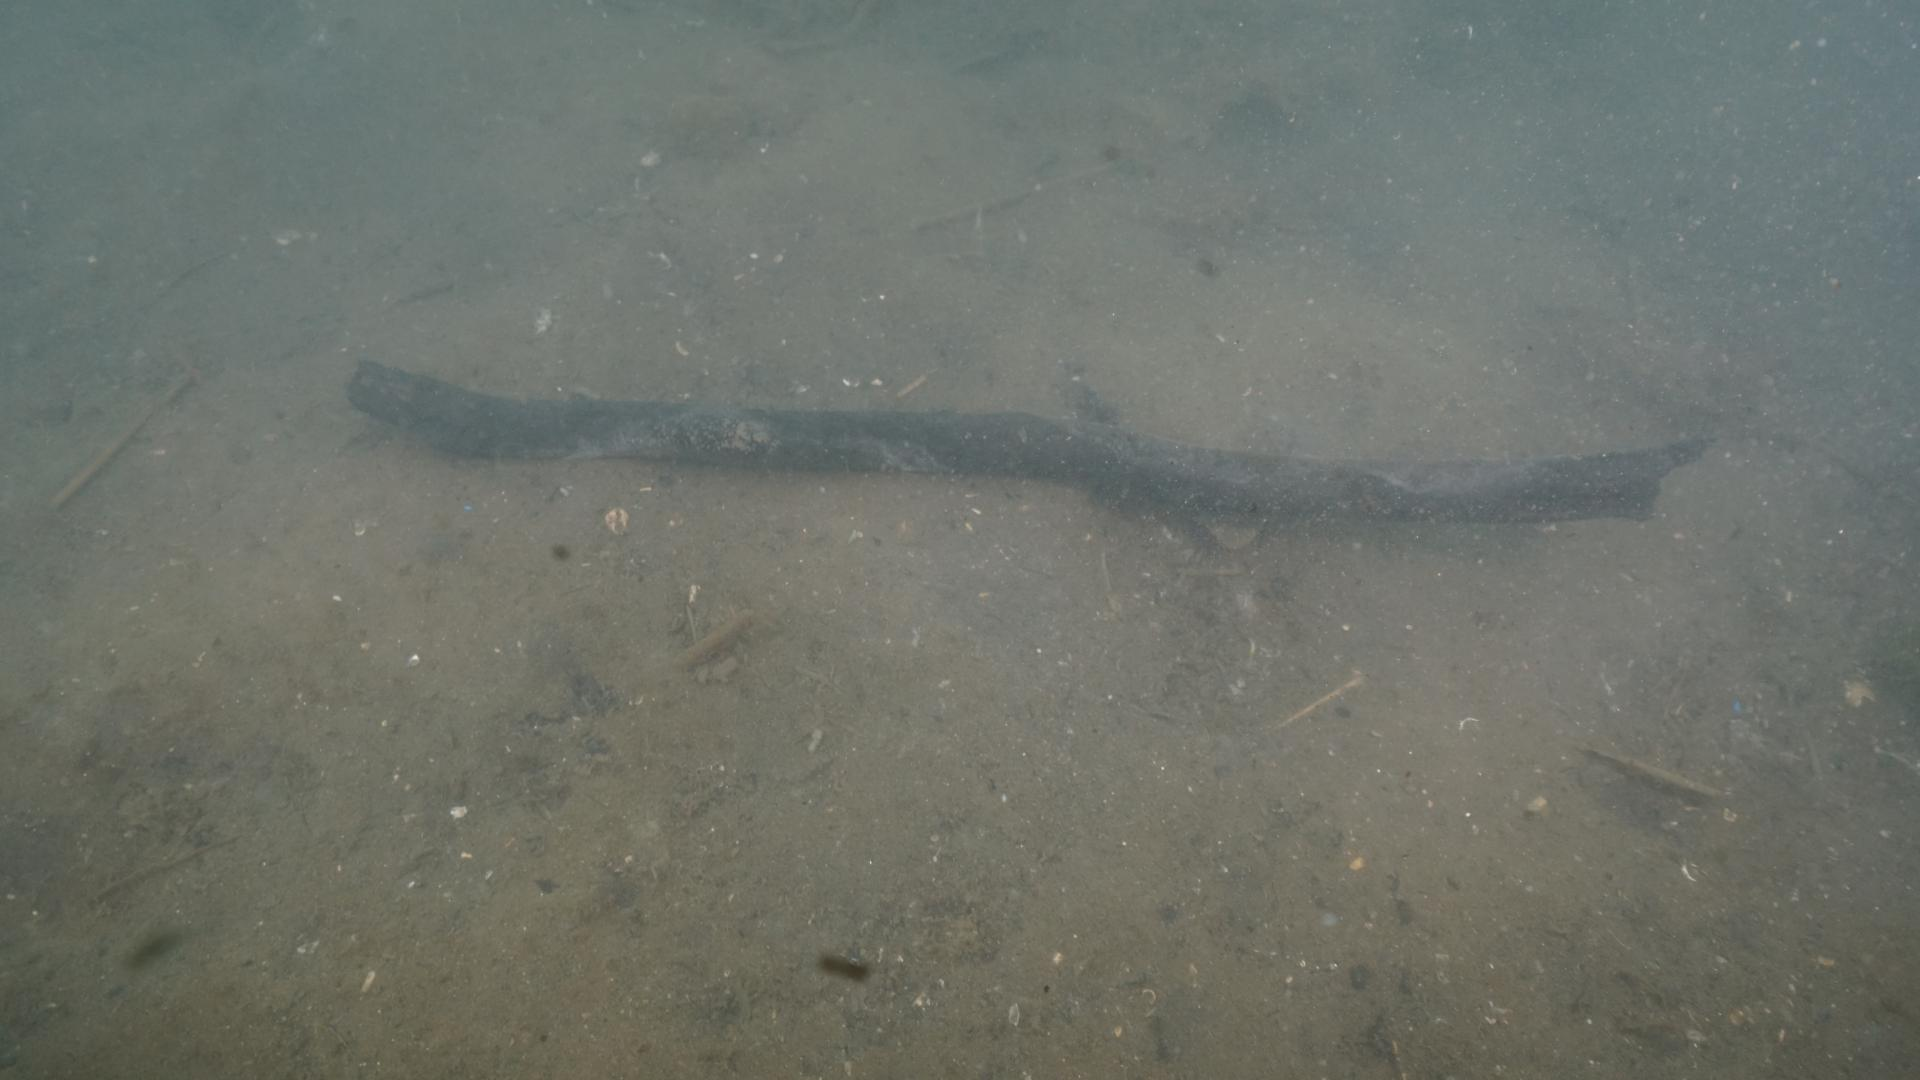wood: (345, 353, 1714, 526)
